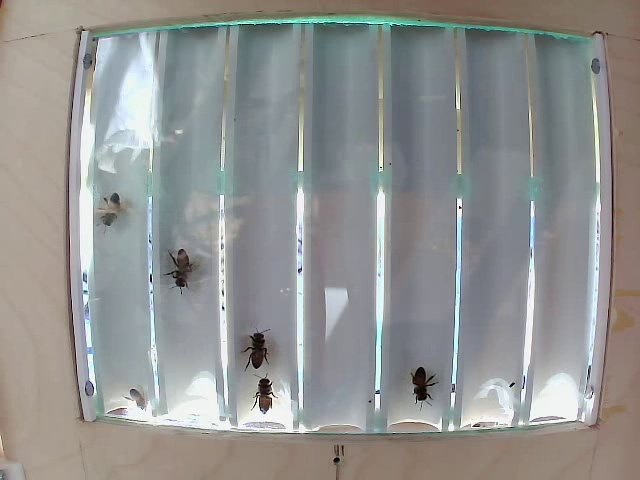bee: (250, 370, 294, 417), (398, 360, 440, 407), (160, 248, 198, 297), (242, 331, 281, 367), (95, 181, 126, 224)
